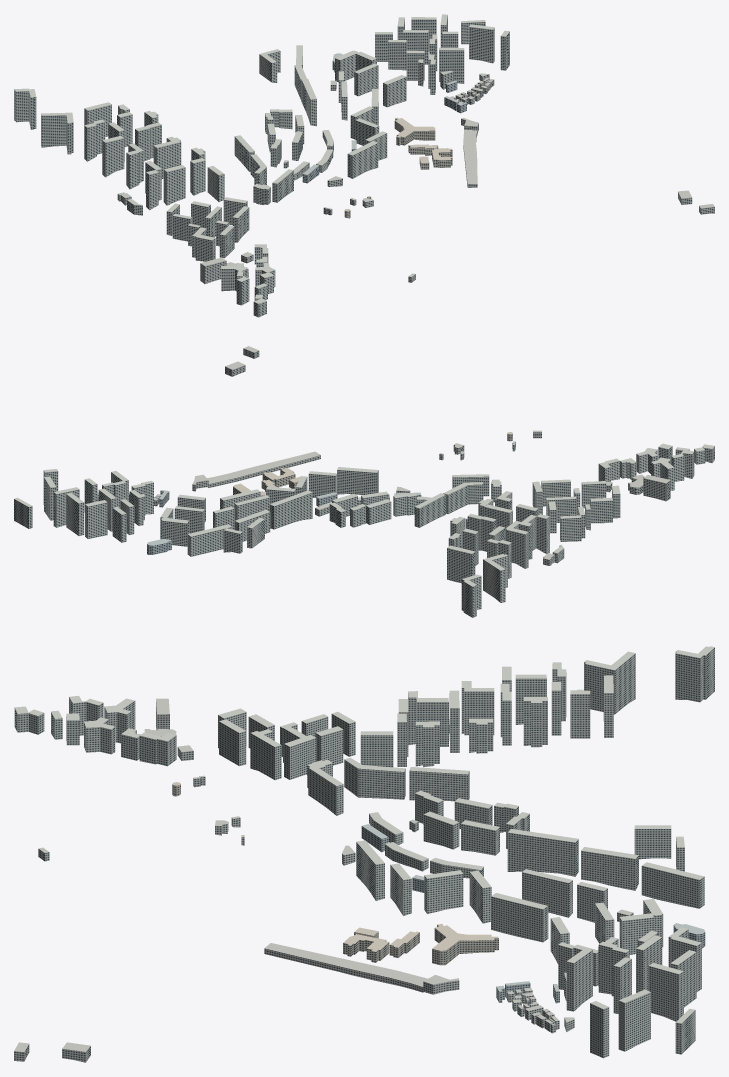
The model's file is city_1_-1.glb.
3 renders of one model, top to bottom at view 1: azimuth 30°, elevation 25°; view 2: azimuth 150°, elevation 25°; view 3: azimuth 270°, elevation 25°, orthographic. The views are drawn at different scales.
Size of the model in its own units: 1020 by 137 by 918.
4 materials, 4 textured.
